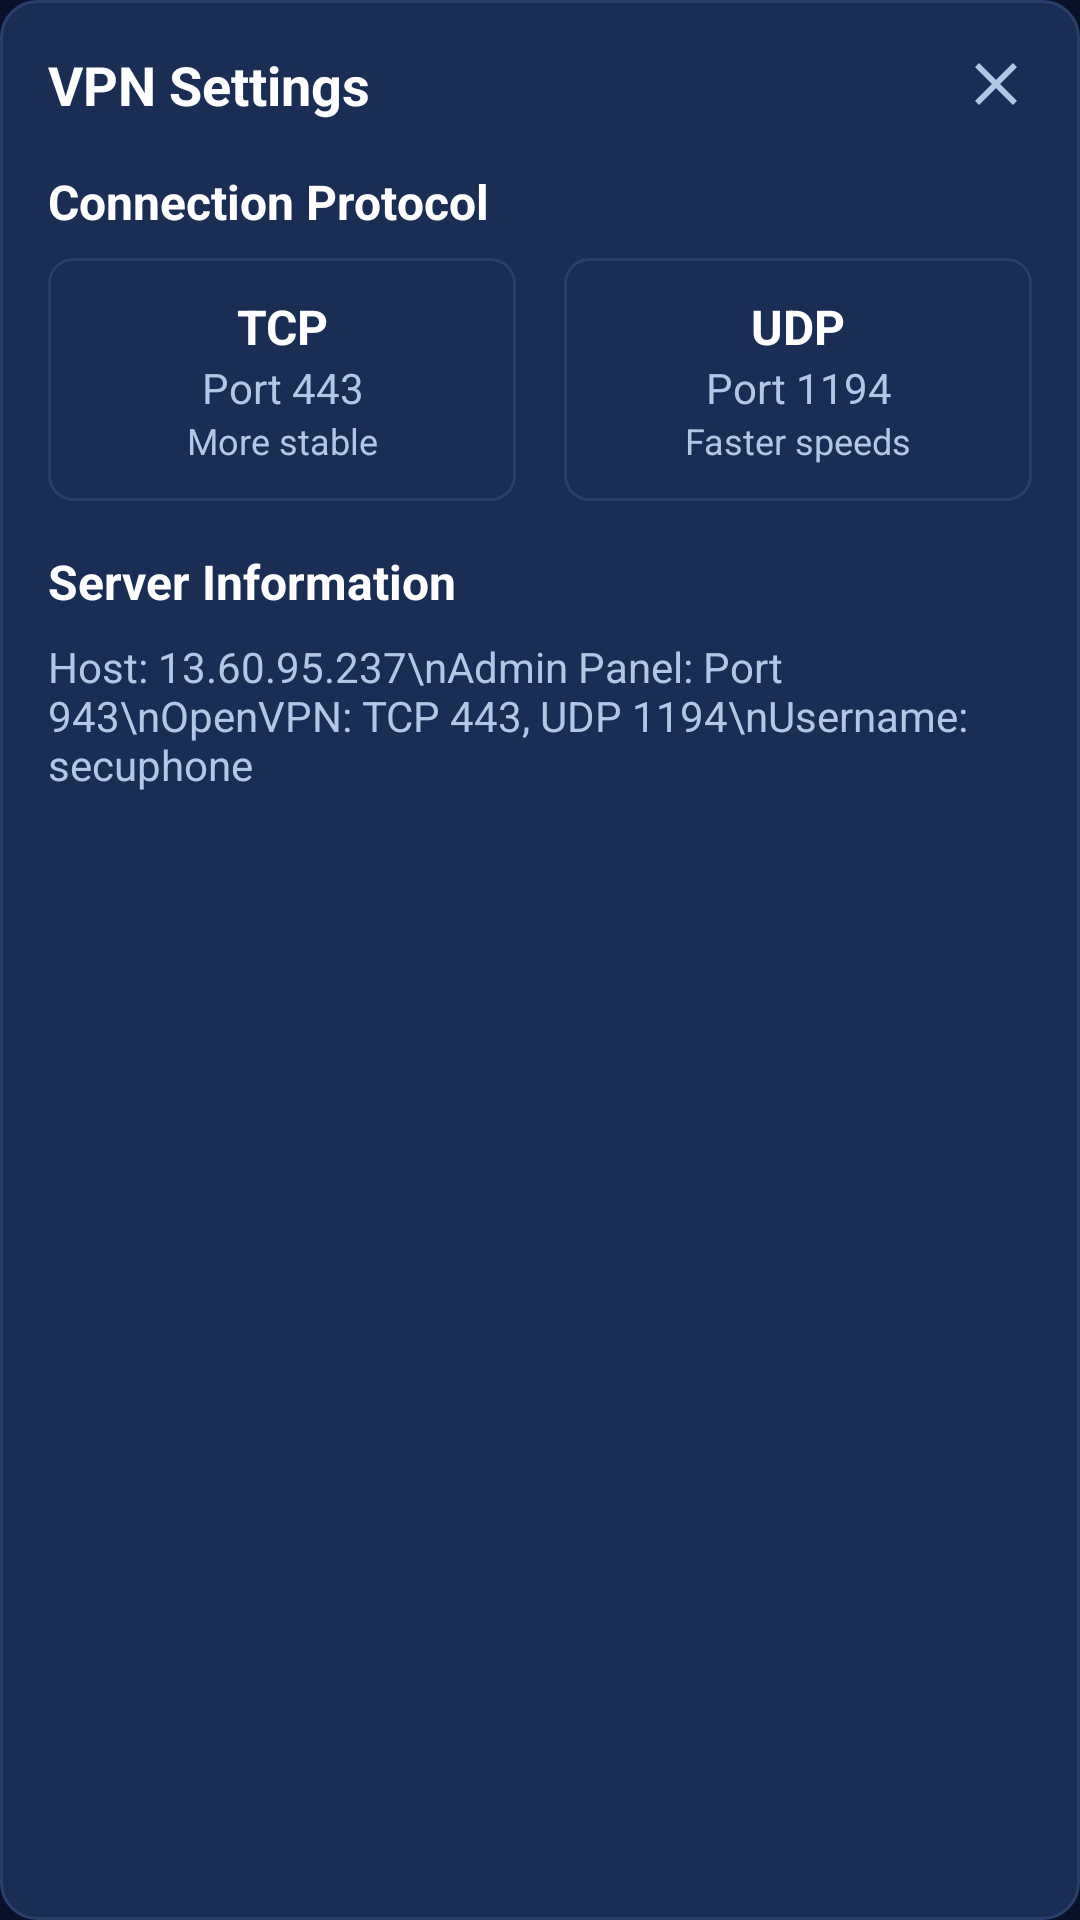

Screen size 1080*1920. Icon name, then its box in pixels as (x1, y1, x2, y2):
Close dialog: (975, 63, 1017, 105)
